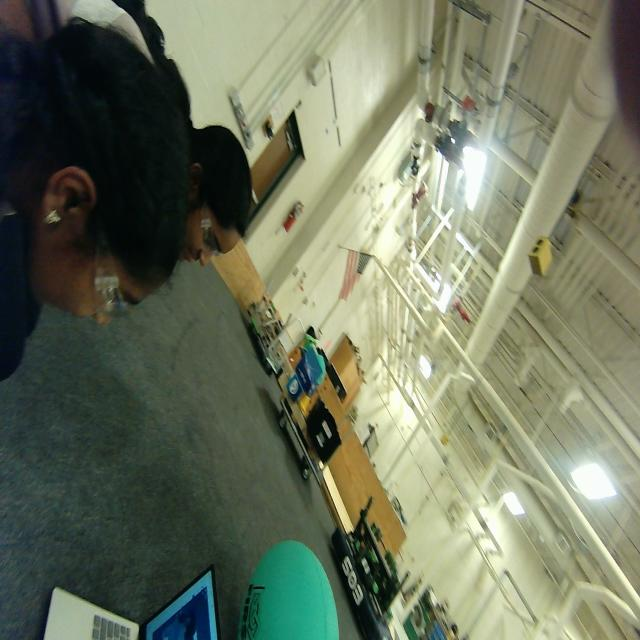algae: (233, 527, 342, 640)
